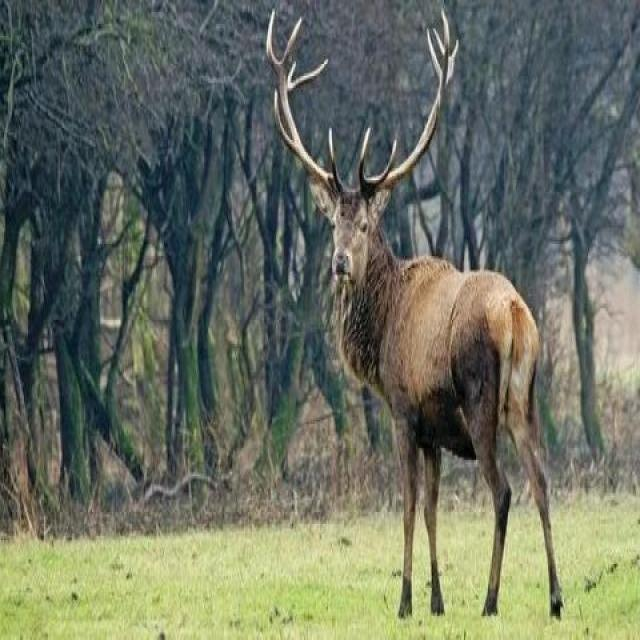deer: (248, 2, 612, 629)
